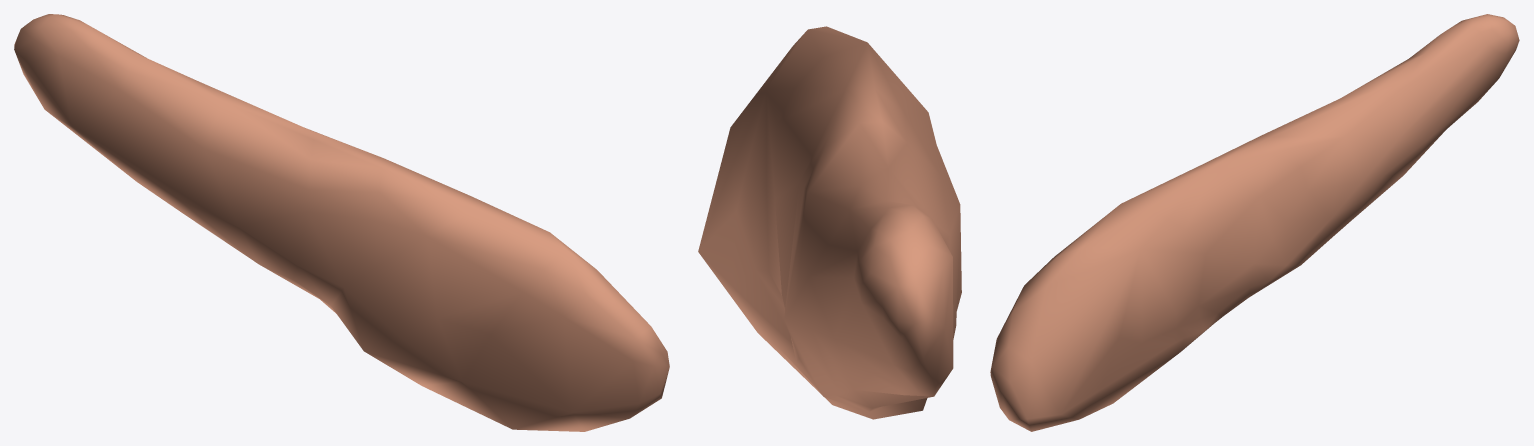
File: sublingual-gland-r.glb
3 renders of one model, left to right at view 1: azimuth 30°, elevation 25°; view 2: azimuth 150°, elevation 25°; view 3: azimuth 270°, elevation 25°, orthographic. The views are drawn at different scales.
Visible parts, largest first — view 1: Sublingual gland.r; view 2: Sublingual gland.r; view 3: Sublingual gland.r.
Boxes of the visible parts, x1,y1,x2,y2 form: Sublingual gland.r: (14,14,669,431); Sublingual gland.r: (698,26,961,419); Sublingual gland.r: (990,14,1519,431).
Bounding box in the file's own units: 0.0163 × 0.0126 × 0.0212.
